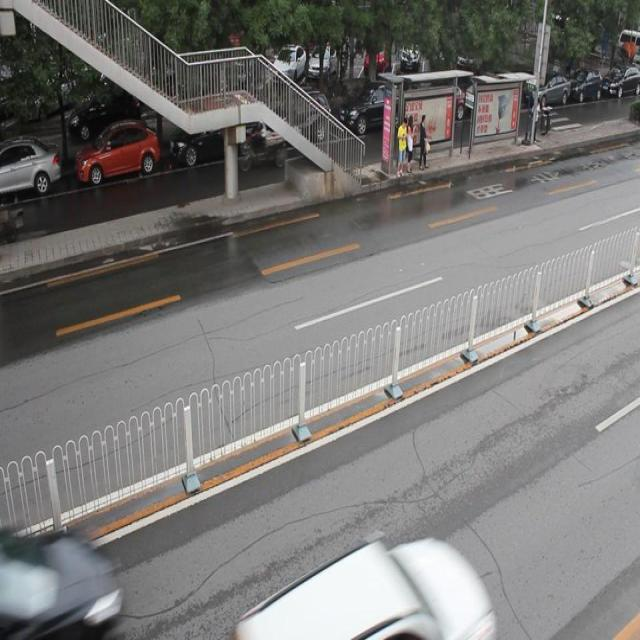car: (248, 534, 487, 640), (74, 118, 160, 184), (170, 98, 258, 162), (265, 90, 330, 147), (342, 79, 409, 134), (1, 136, 60, 197)
